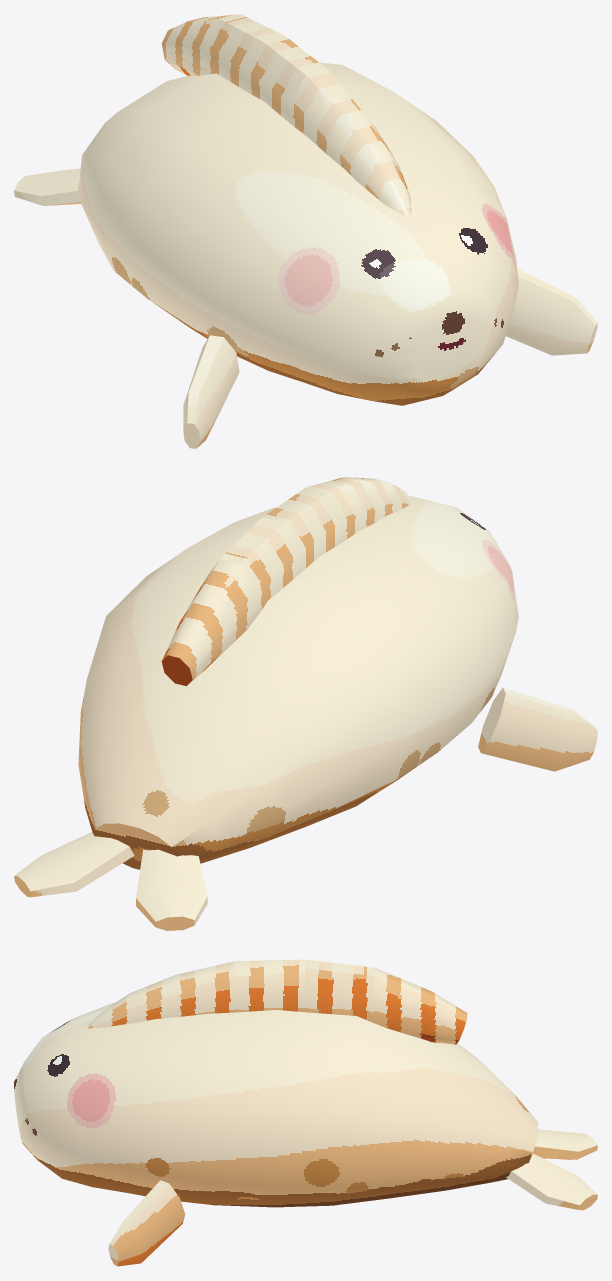
File: gyoza.glb
3 views of the same model, one above another, from view 1: azimuth 30°, elevation 25°; view 2: azimuth 150°, elevation 25°; view 3: azimuth 270°, elevation 25° (orthographic). The views are drawn at different scales.
Visible parts, largest first — view 1: body, pleat, flipperR, flipperL, tailL; view 2: body, pleat, flipperL, tailL, tailR; view 3: body, pleat, flipperR, tailR, tailL.
Part boxes in pixels (x1,y1,x2,y2): body: (78, 62, 518, 405); pleat: (161, 14, 411, 215); flipperR: (506, 268, 597, 355); flipperL: (183, 335, 239, 448); tailL: (14, 168, 80, 205); body: (78, 495, 518, 869); pleat: (161, 477, 411, 686); flipperL: (478, 687, 597, 771); tailL: (136, 849, 207, 930); tailR: (14, 832, 134, 897); body: (14, 1002, 538, 1207); pleat: (87, 959, 467, 1044); flipperR: (108, 1180, 185, 1266); tailR: (506, 1153, 597, 1210); tailL: (533, 1129, 597, 1159).
Bounding box in the file's own units: 29.32 × 19.11 × 44.26.
Materials: 1 (1 with a texture image).
